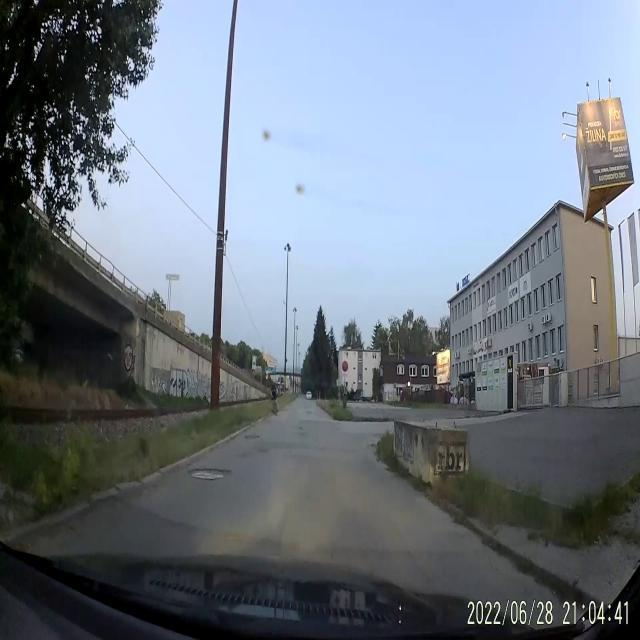Manhole: (244, 434, 258, 441)
Pothole: (186, 464, 232, 486), (368, 441, 376, 451), (298, 424, 304, 432)
